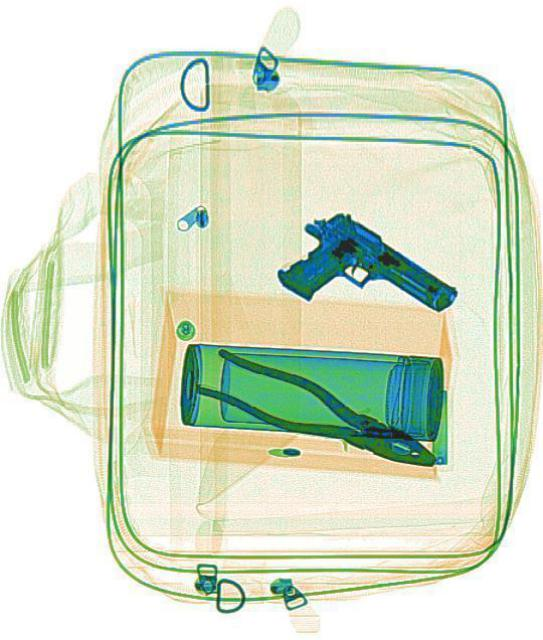Gun: (271, 193, 458, 371)
Pliers: (191, 336, 444, 488)
